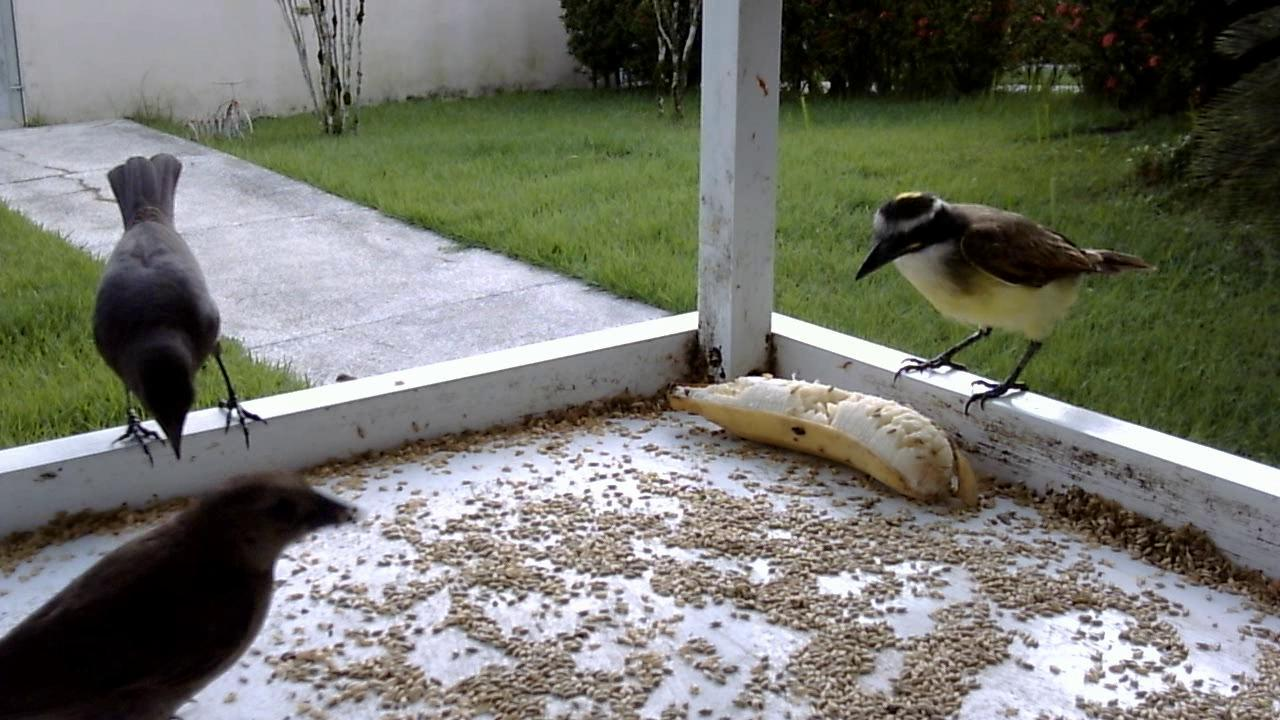bem_te_vi: (848, 181, 1150, 423)
chupim: (1, 463, 362, 718), (86, 143, 271, 475)
